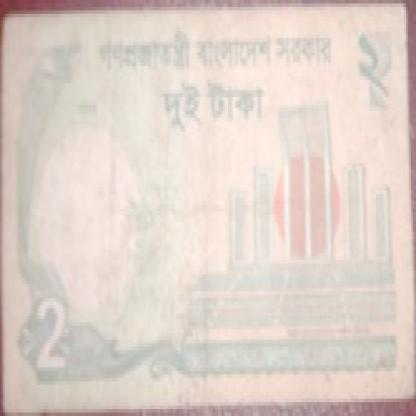two taka: (32, 288, 90, 395), (353, 21, 396, 114)
